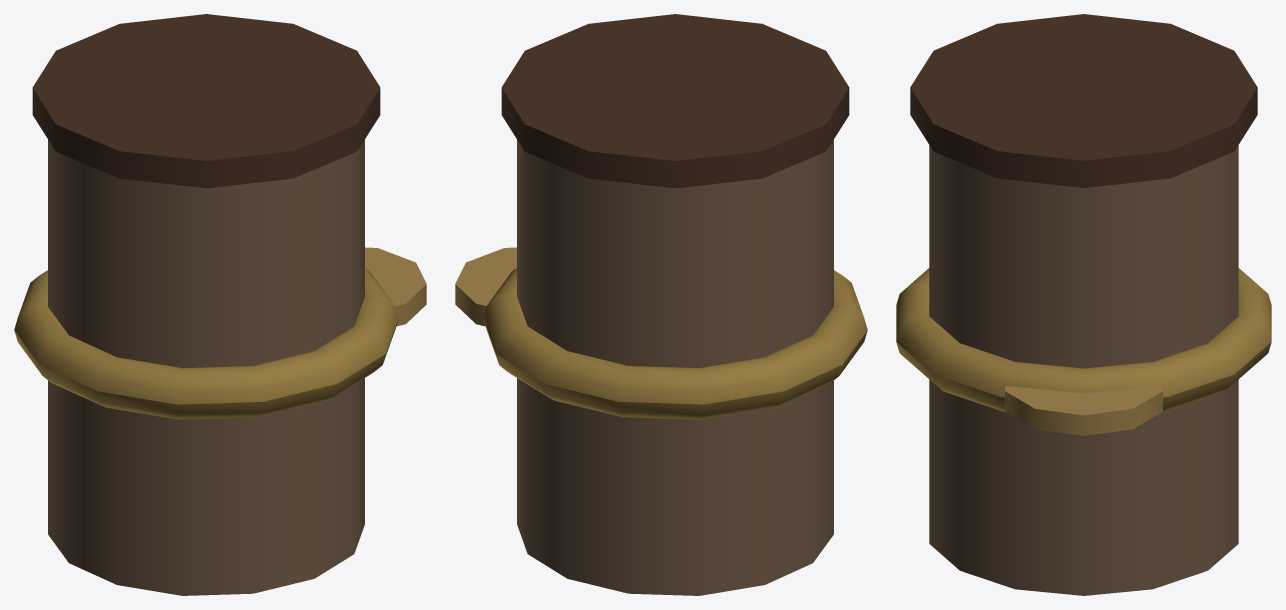
Rendered from town_portal.obj.
3 views of the same model, side by side, from view 1: azimuth 30°, elevation 25°; view 2: azimuth 150°, elevation 25°; view 3: azimuth 270°, elevation 25° (orthographic).
Parts seen in each view (by area): view 1: town_portal; view 2: town_portal; view 3: town_portal.
Part boxes in pixels (left/top/right/bottom): town_portal: left=14, top=14, right=426, bottom=595; town_portal: left=455, top=14, right=867, bottom=595; town_portal: left=896, top=14, right=1271, bottom=595.
Size of the model in its own units: 1.15 by 1.29 by 0.9944.
